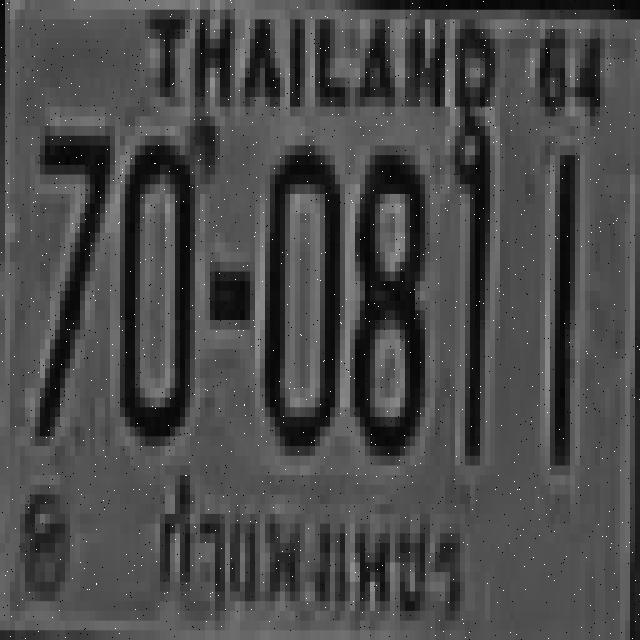0: (260, 136, 340, 446), (118, 126, 192, 436)
1: (452, 126, 488, 456), (458, 126, 488, 456), (548, 150, 578, 460)
7: (32, 126, 108, 436)
8: (352, 146, 422, 446)
KamphaengPhet: (142, 460, 468, 636)
